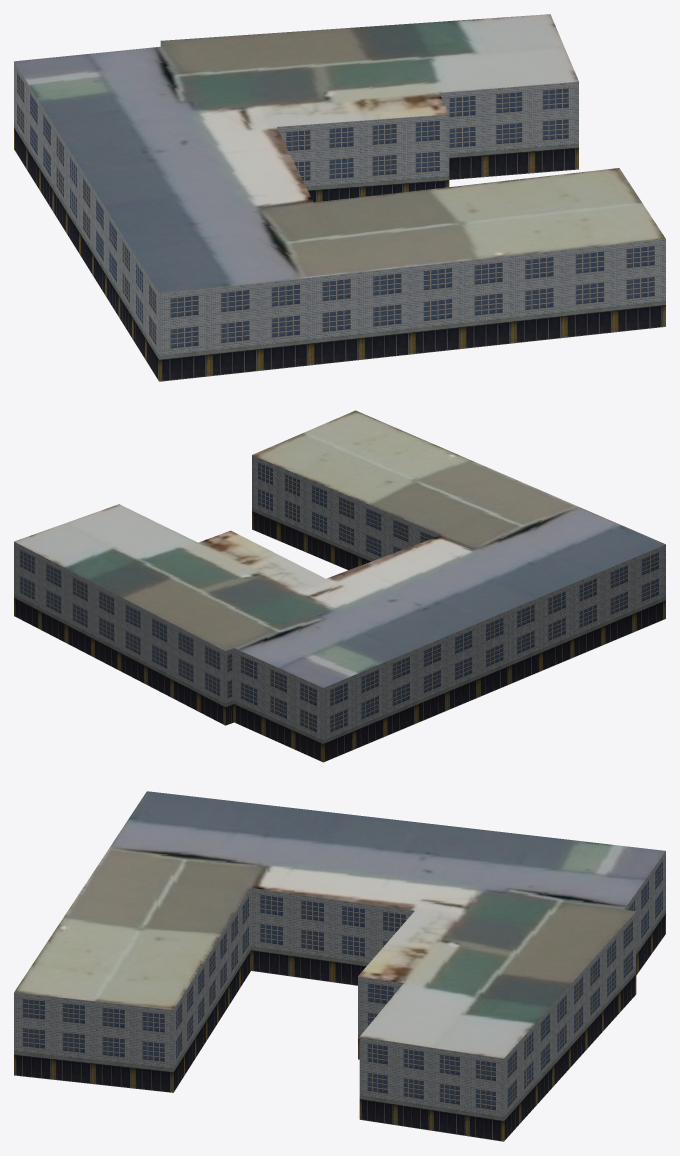
The picture shows the model from 3 angles, top to bottom: view 1: azimuth 30°, elevation 25°; view 2: azimuth 150°, elevation 25°; view 3: azimuth 270°, elevation 25°; orthographic projection. The views are drawn at different scales.
Parts seen in each view (by area): view 1: SketchUp (×9); view 2: SketchUp (×10); view 3: SketchUp (×14).
Boxes of the visible parts, <box> form: SketchUp (×9): <box>14,14,665,381</box>; SketchUp (×10): <box>14,410,665,762</box>; SketchUp (×14): <box>14,791,665,1141</box>.
Bounding box in the file's own units: 76.74 × 79.04 × 11.11.
3 materials, 3 textured.
